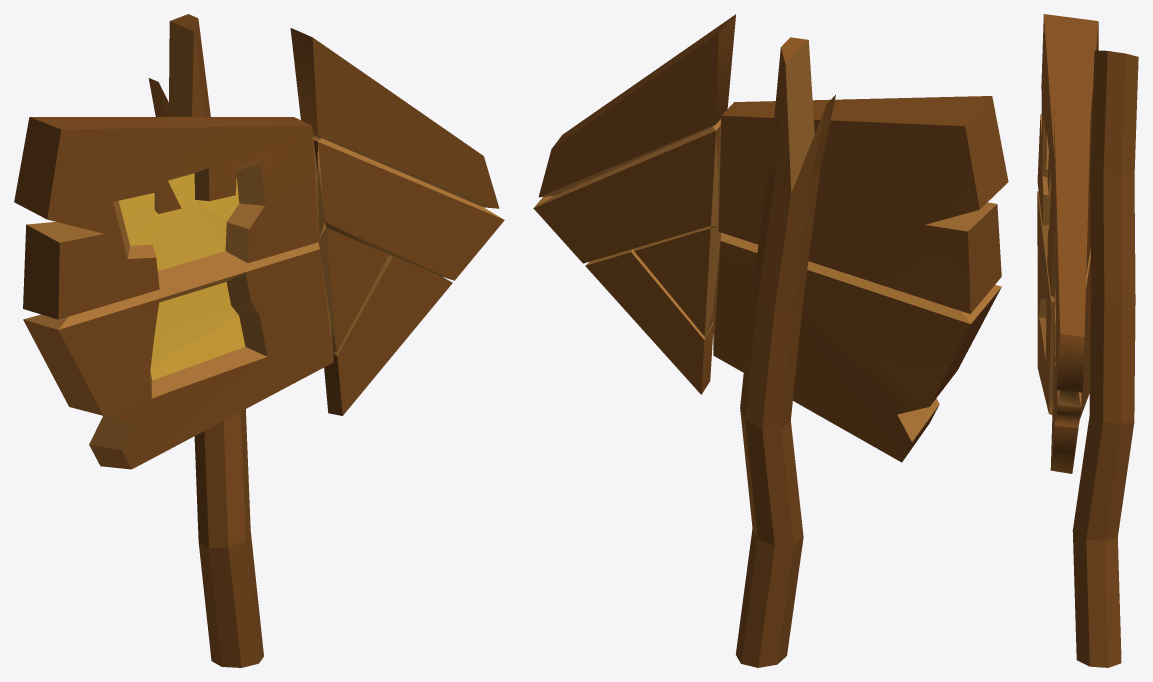
The model's file is PROP_Ice_SignalRight01.FBX.
The picture shows the model from 3 angles, left to right: view 1: azimuth 30°, elevation 25°; view 2: azimuth 150°, elevation 25°; view 3: azimuth 270°, elevation 25°; orthographic projection. The views are drawn at different scales.
Visible parts, largest first — view 1: PROP_Ice_SignalLeft01; view 2: PROP_Ice_SignalLeft01; view 3: PROP_Ice_SignalLeft01.
Part boxes in pixels (box(x1,y1,x2,y2)): PROP_Ice_SignalLeft01: box(14, 14, 504, 667); PROP_Ice_SignalLeft01: box(533, 14, 1008, 667); PROP_Ice_SignalLeft01: box(1037, 14, 1138, 667).
Size of the model in its own units: 106 by 140 by 21.63.
1 material, 1 textured.
